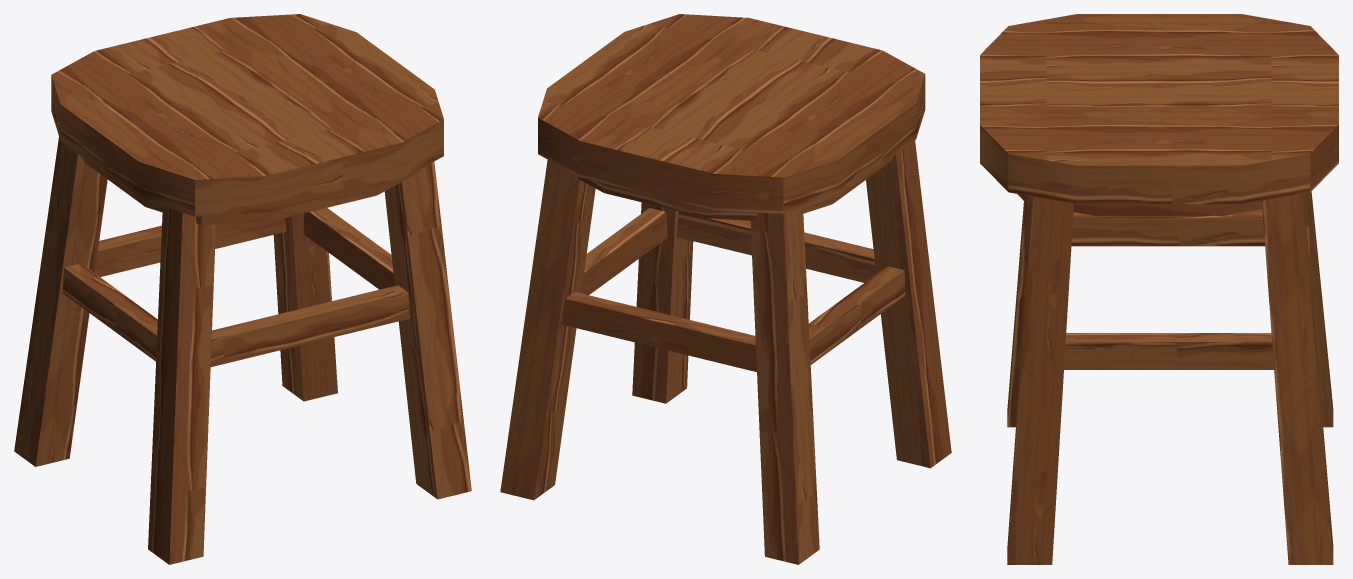
File: ARC0710019.fbx
3 views of the same model, side by side, from view 1: azimuth 30°, elevation 25°; view 2: azimuth 150°, elevation 25°; view 3: azimuth 270°, elevation 25° (orthographic). The views are drawn at different scales.
Visible parts, largest first — view 1: smARC0710019; view 2: smARC0710019; view 3: smARC0710019.
Boxes of the visible parts, <box> form: smARC0710019: <box>14,14,471,564</box>; smARC0710019: <box>500,14,951,564</box>; smARC0710019: <box>980,14,1338,564</box>.
Bounding box in the file's own units: 58.13 × 69.46 × 56.87.
1 material, 1 textured.
